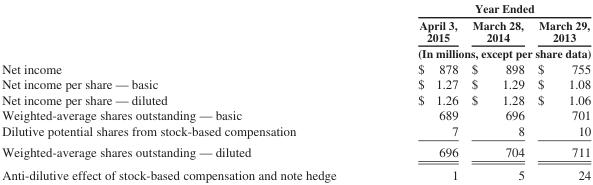table: (1, 1, 590, 181)
table column: (1, 1, 376, 181), (376, 1, 464, 181), (464, 1, 530, 181), (530, 1, 590, 181)
table column header: (1, 1, 590, 60)
table row: (1, 16, 590, 44), (1, 140, 590, 162), (1, 162, 590, 181), (1, 122, 590, 140), (1, 44, 590, 60), (1, 60, 590, 76), (1, 91, 590, 107), (1, 1, 590, 16), (1, 76, 590, 91), (1, 107, 590, 122)
table spanning cell: (376, 44, 590, 60), (376, 1, 590, 16)
